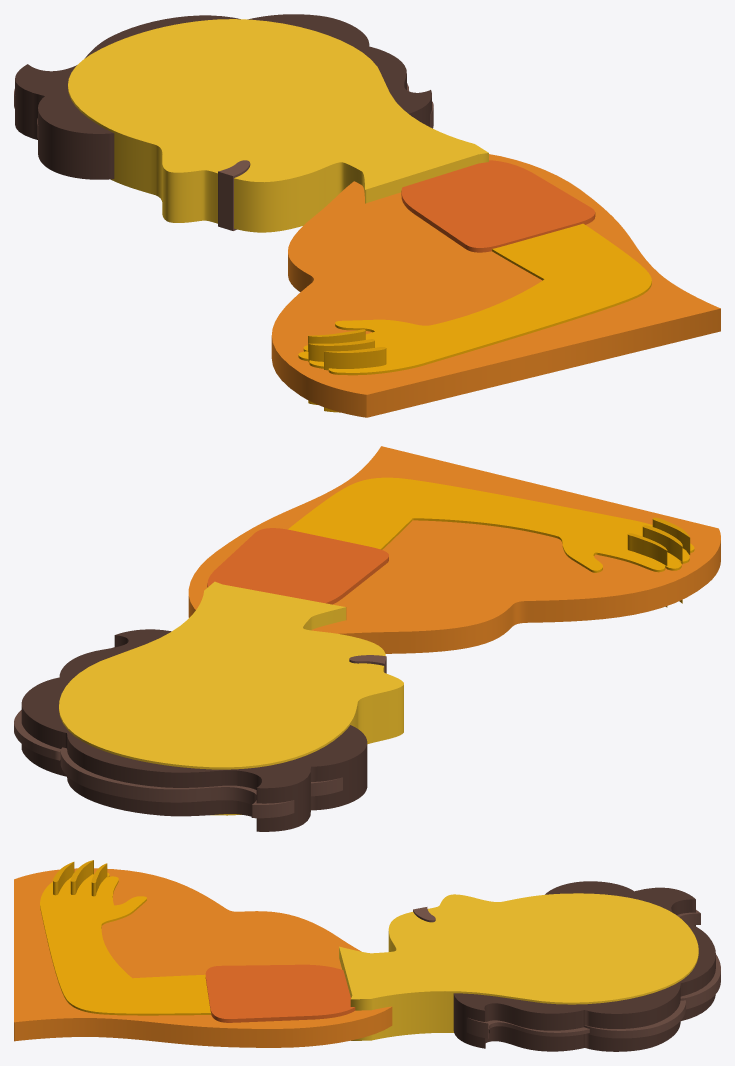
Rendered from emoji_u1fac4.glb.
3 views of the same model, one above another, from view 1: azimuth 30°, elevation 25°; view 2: azimuth 150°, elevation 25°; view 3: azimuth 270°, elevation 25° (orthographic). The views are drawn at different scales.
Visible parts, largest first — view 1: emoji_u1fac4; view 2: emoji_u1fac4; view 3: emoji_u1fac4.
Part boxes in pixels (left/top/right/bottom): emoji_u1fac4: left=14, top=14, right=720, bottom=417; emoji_u1fac4: left=14, top=446, right=720, bottom=831; emoji_u1fac4: left=14, top=860, right=720, bottom=1051.
Size of the model in its own units: 0.0182 by 0.0026 by 0.0338.
